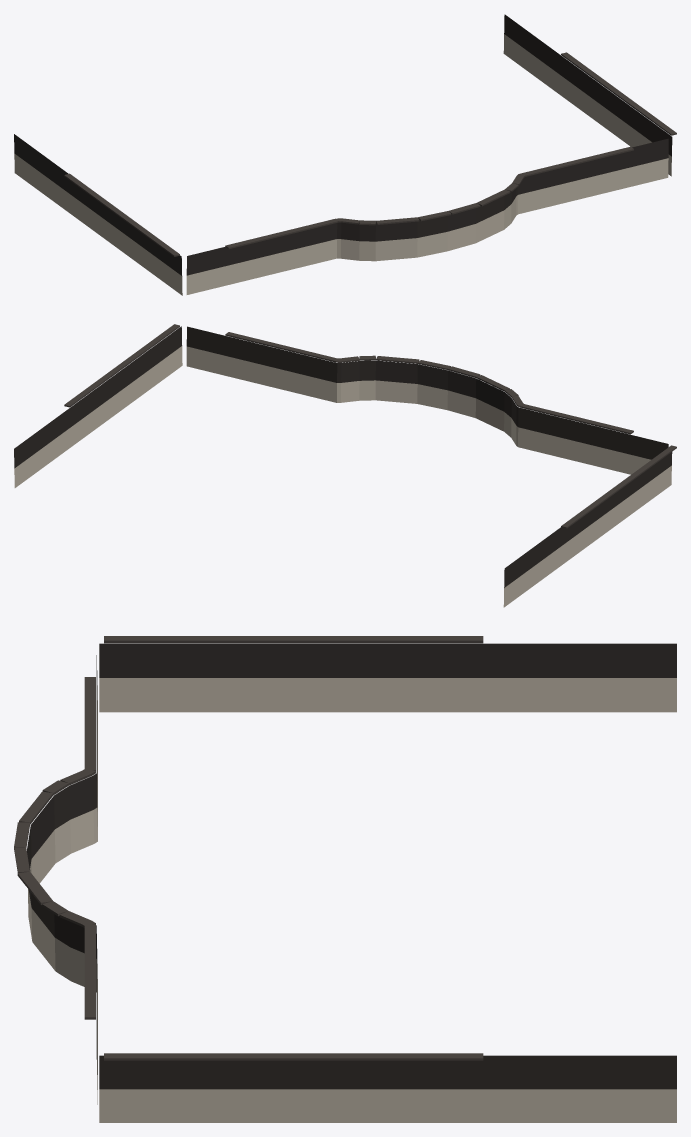
Rendered from landmark_sinkhole_far.glb.
The picture shows the model from 3 angles, top to bottom: view 1: azimuth 30°, elevation 25°; view 2: azimuth 150°, elevation 25°; view 3: azimuth 270°, elevation 25°; orthographic projection. The views are drawn at different scales.
Parts seen in each view (by area): view 1: landmark_sinkhole_far; view 2: landmark_sinkhole_far; view 3: landmark_sinkhole_far.
Boxes of the visible parts, box(x1,y1,x2,y2) form: landmark_sinkhole_far: box(14, 14, 676, 295); landmark_sinkhole_far: box(14, 324, 676, 607); landmark_sinkhole_far: box(14, 636, 676, 1122).
Bounding box in the file's own units: 258 × 20.08 × 171.
